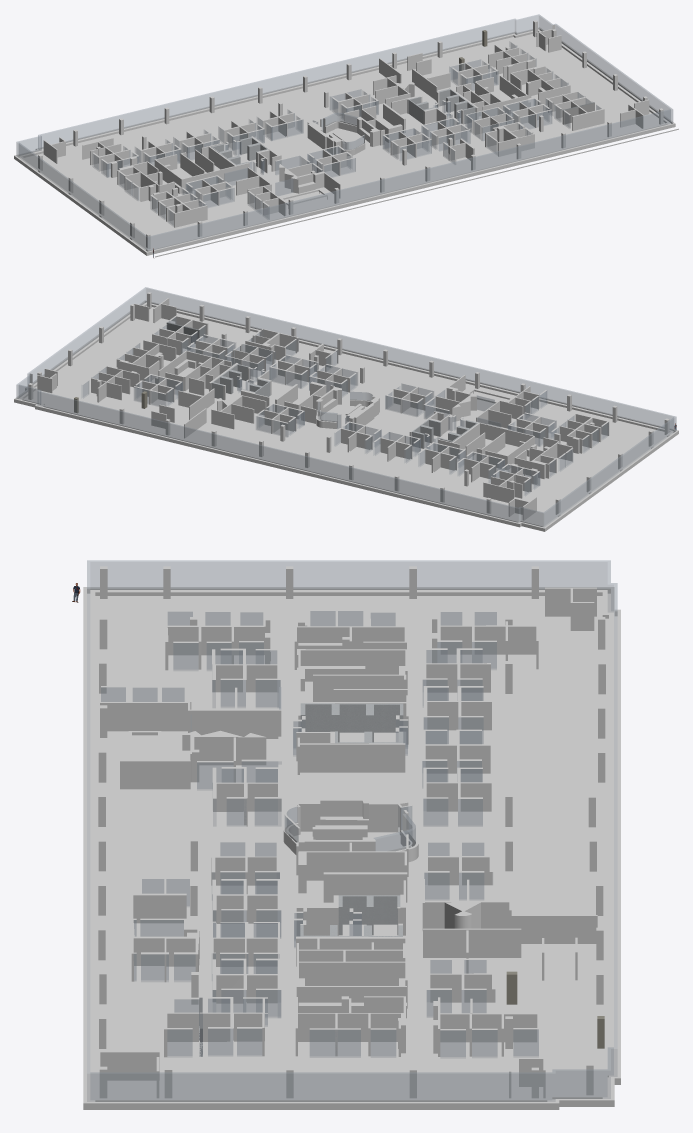
File: 6afecb6b-b2f0-47e9-8488-d48cd283b15a.obj
3 views of the same model, one above another, from view 1: azimuth 30°, elevation 25°; view 2: azimuth 150°, elevation 25°; view 3: azimuth 270°, elevation 25° (orthographic). The views are drawn at different scales.
Visible parts, largest first — view 1: Mesh245 Model, Mesh238 Group240 Model, Mesh195 Group197 Model, Mesh248 Model, Mesh255 Model, Mesh249 Model, Mesh155 Group154 Model, Mesh251 Model, Mesh247 Model, Mesh250 Model, Mesh254 Model, Mesh253 Model (+4 smaller); view 2: Mesh245 Model, Mesh238 Group240 Model, Mesh195 Group197 Model, Mesh256 Model, Mesh257 Model, Mesh255 Model, Mesh251 Model, Mesh253 Model, Mesh254 Model, Mesh258 Model, Mesh249 Model, Mesh250 Model (+3 smaller); view 3: Mesh245 Model, Mesh238 Group240 Model, Mesh182 Group184 Model, Mesh126 Group125 Model, Mesh138 Group137 Model, Mesh154 Group153 Model, Mesh130 Group129 Model, Mesh235 Group237 Model, Mesh247 Model, Mesh218 Group220 Model, Mesh237 Group239 Model, Mesh225 Group227 Model (+30 smaller).
Part boxes in pixels (x1,y1,x2,y2): Mesh245 Model: (14,15,675,255); Mesh238 Group240 Model: (17,14,672,250); Mesh195 Group197 Model: (181,162,249,193); Mesh248 Model: (155,128,678,257); Mesh255 Model: (263,110,293,137); Mesh249 Model: (195,179,225,205); Mesh155 Group154 Model: (482,95,527,116); Mesh251 Model: (431,121,461,145); Mesh247 Model: (443,138,474,164); Mesh250 Model: (513,101,543,127); Mesh254 Model: (338,92,368,116); Mesh253 Model: (458,62,488,85); Mesh245 Model: (14,288,678,531); Mesh238 Group240 Model: (17,287,675,512); Mesh195 Group197 Model: (466,419,534,446); Mesh256 Model: (380,435,412,461); Mesh257 Model: (425,446,456,472); Mesh255 Model: (341,425,372,452); Mesh251 Model: (278,358,309,384); Mesh253 Model: (142,378,174,404); Mesh254 Model: (264,407,296,433); Mesh258 Model: (464,455,496,482); Mesh249 Model: (516,416,548,438); Mesh250 Model: (195,338,227,360); Mesh245 Model: (83,561,620,1109); Mesh238 Group240 Model: (87,560,617,1073); Mesh182 Group184 Model: (300,743,405,772); Mesh126 Group125 Model: (423,928,521,957); Mesh138 Group137 Model: (298,1013,403,1041); Mesh154 Group153 Model: (299,961,405,985); Mesh130 Group129 Model: (440,1013,537,1042); Mesh235 Group237 Model: (100,702,187,731); Mesh247 Model: (133,877,189,923); Mesh218 Group220 Model: (190,709,281,738); Mesh237 Group239 Model: (511,915,597,943); Mesh225 Group227 Model: (298,851,404,880).
Size of the model in its own units: 4265 by 156 by 1907.
18 materials, 1 textured.
